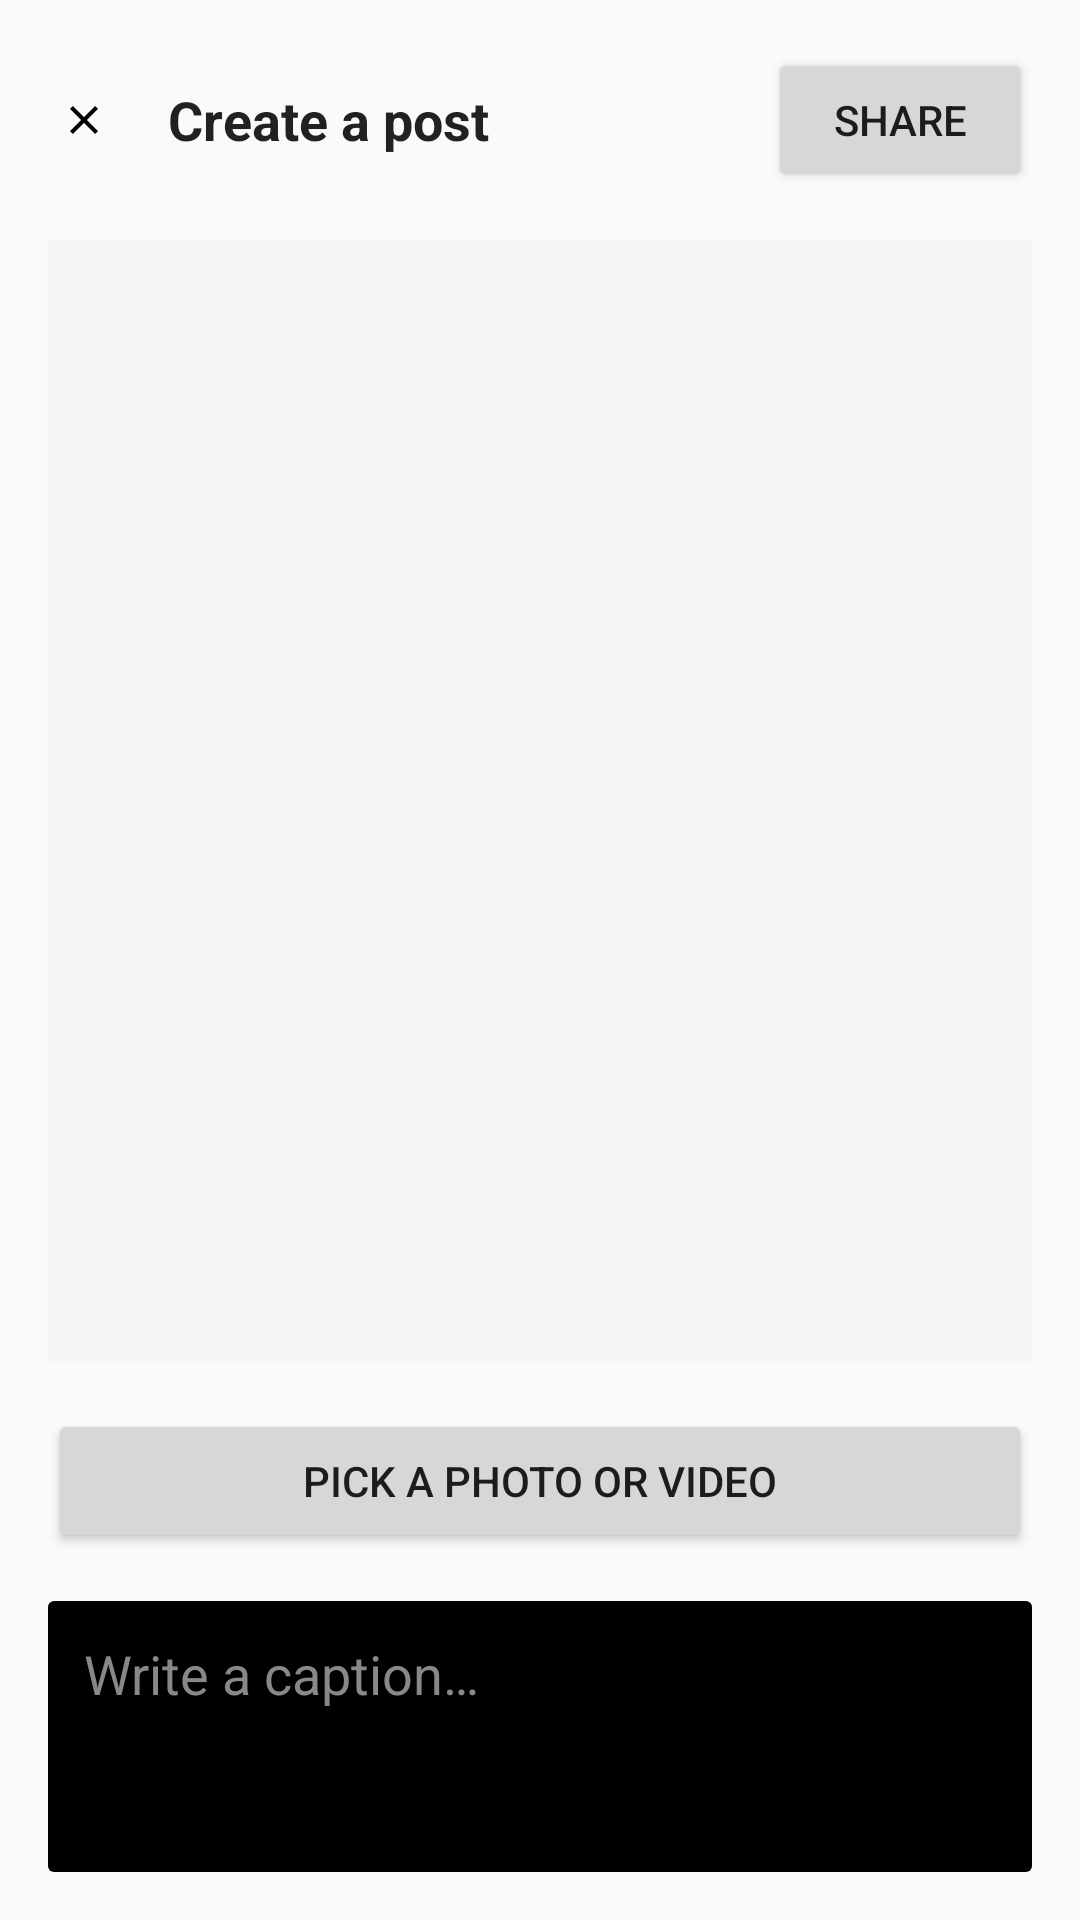

Icon bounding boxes for this 1080px×1920px phone screenshot, format (x1, y1, x2, y2):
close: (70, 106, 98, 134)
